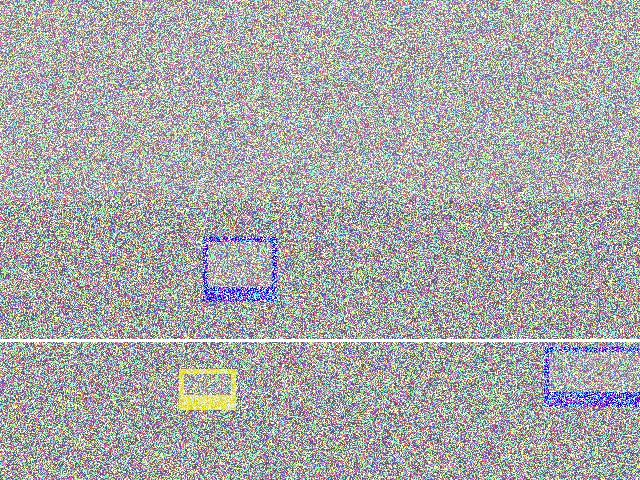bus: (458, 220, 579, 314)
truck: (13, 107, 129, 238), (496, 244, 583, 372)
